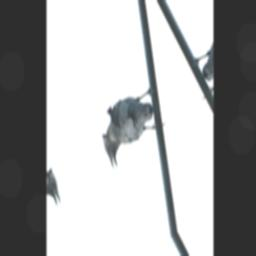Crow: (93, 78, 170, 173)
